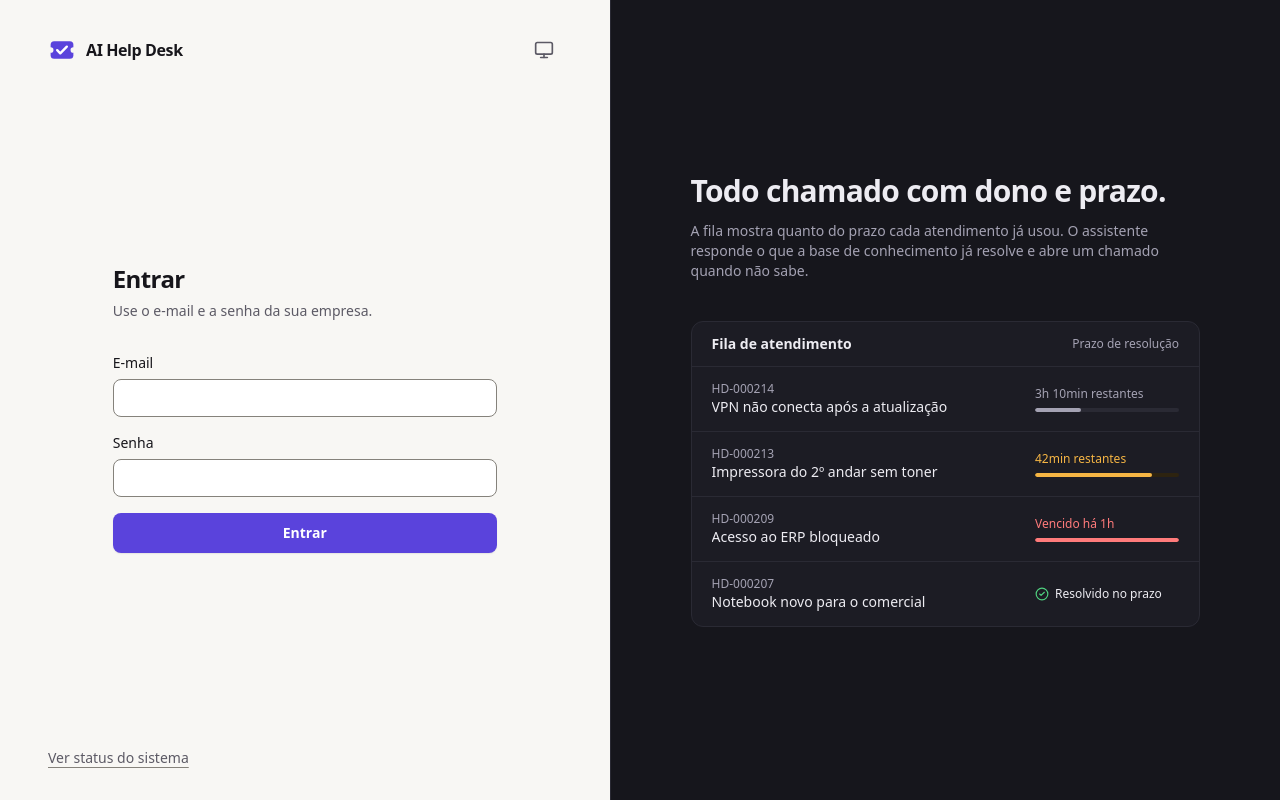
LoginPage › mostra a mensagem do backend quando as credenciais são inválidas
Type "maria@empresa.com" into the field labelled "E-mail".
click(305, 398); type("maria@empresa.com")  # box [113,379,497,417]
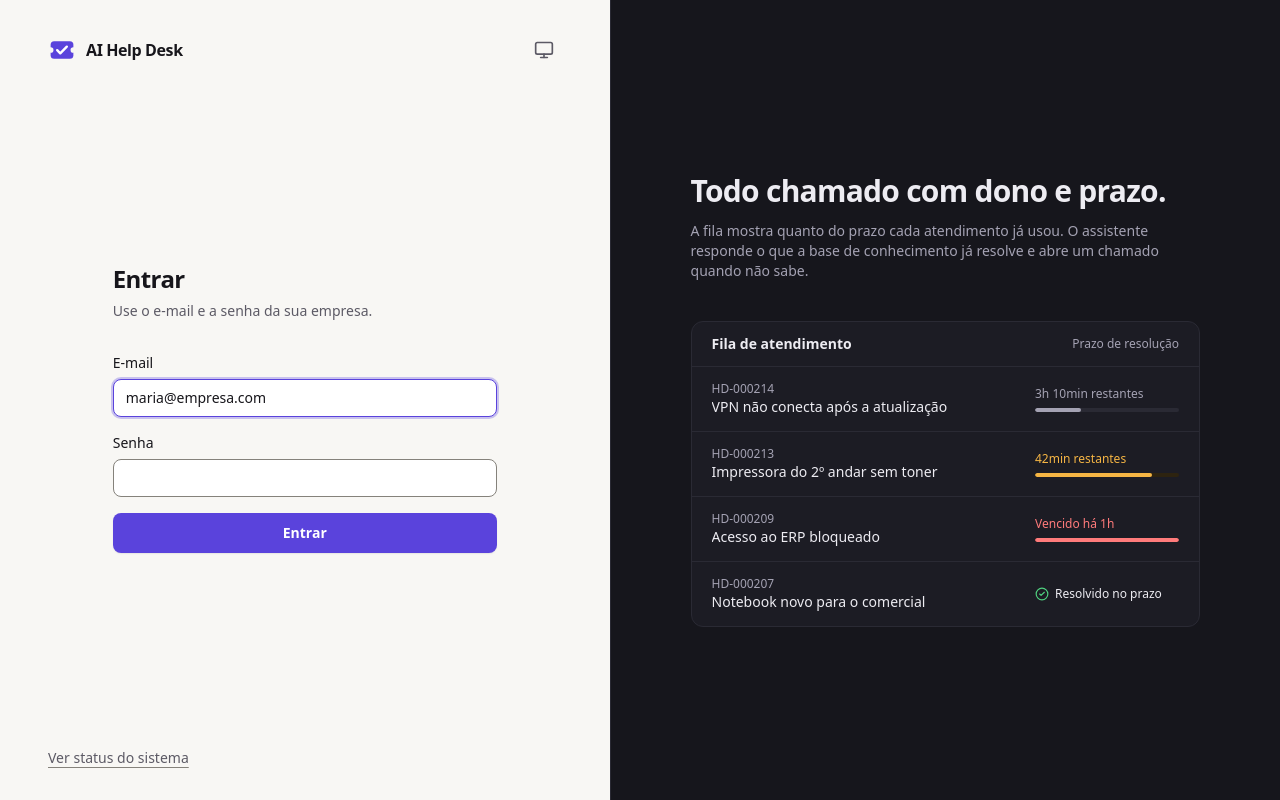
Type "senha-errada" into the password field labelled "Senha".
click(305, 478); type("senha-errada")  # box [113,459,497,497]
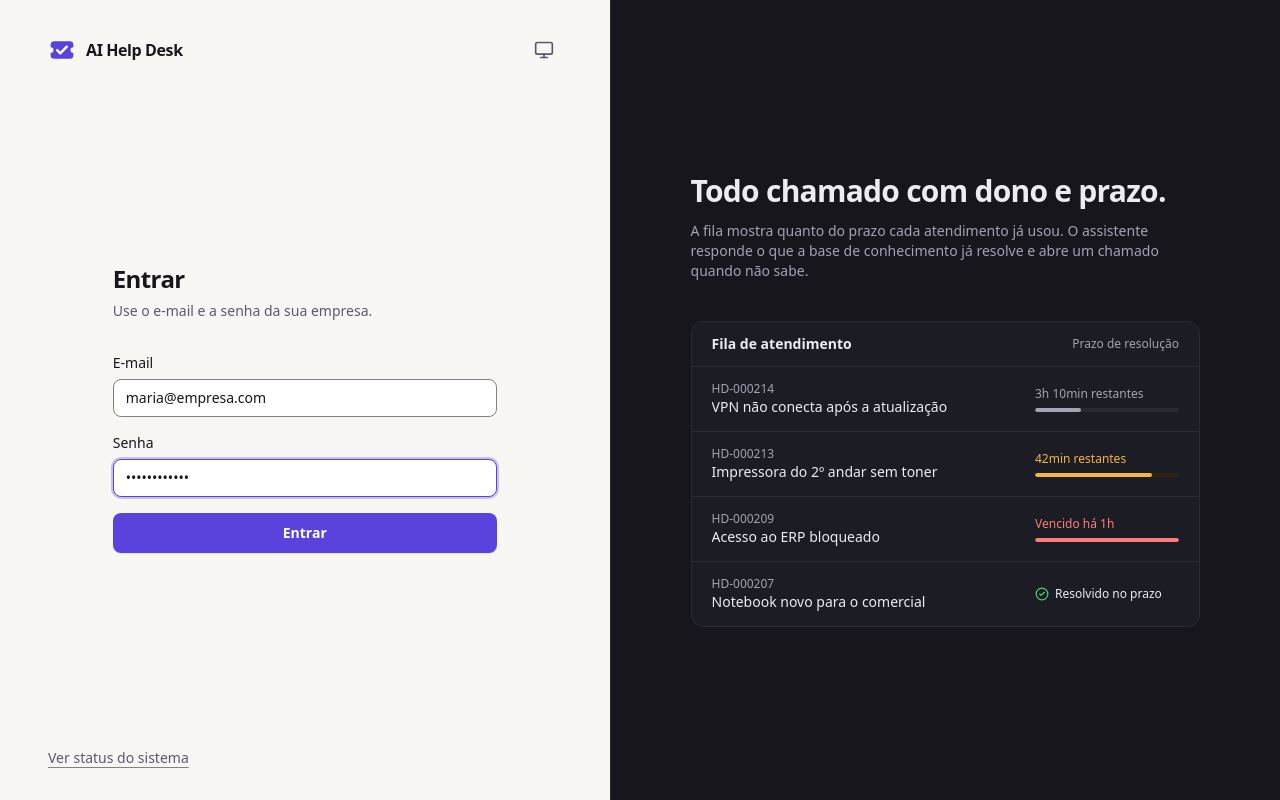
Click the button "Entrar".
click(305, 533)  # box [113,513,497,553]
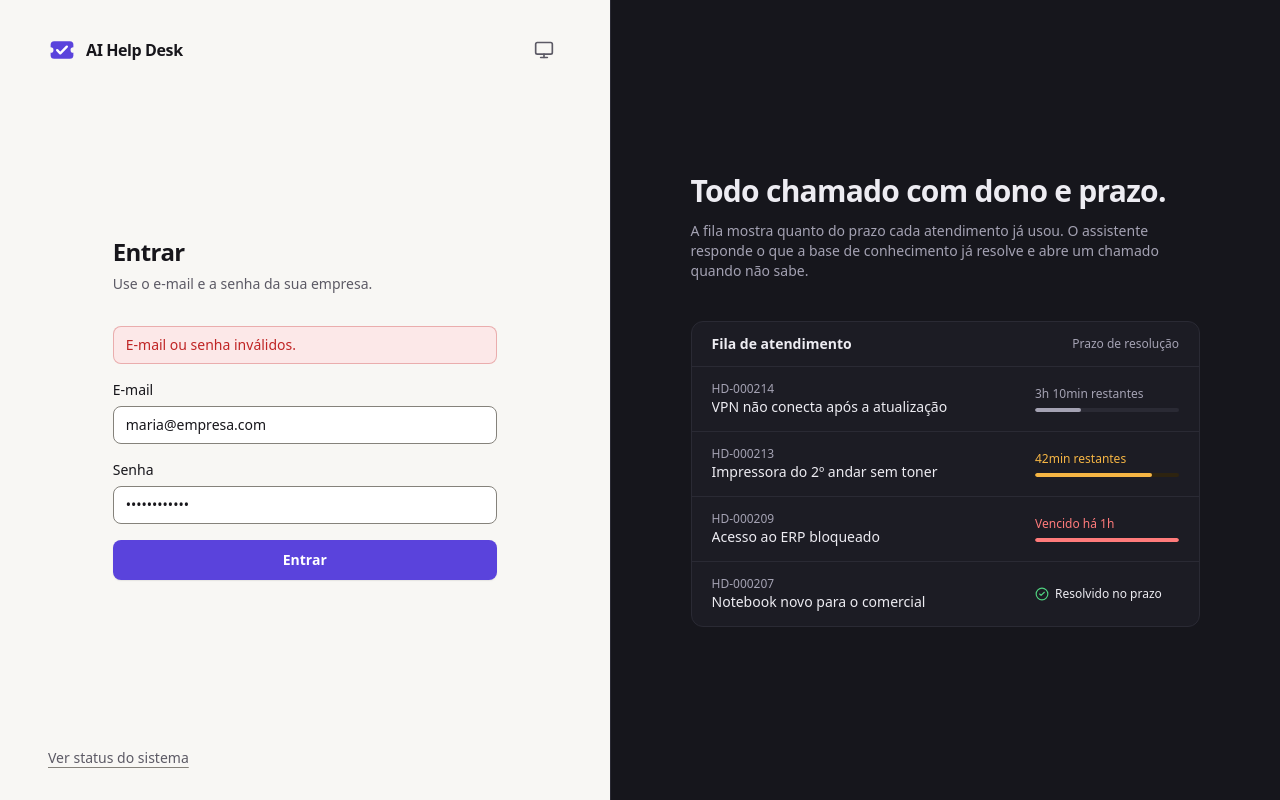
Expected: the button "Entrar" is enabled, [113,540,497,580]
Result: the message reads "E-mail ou senha inválidos." at [126,335,296,354]
